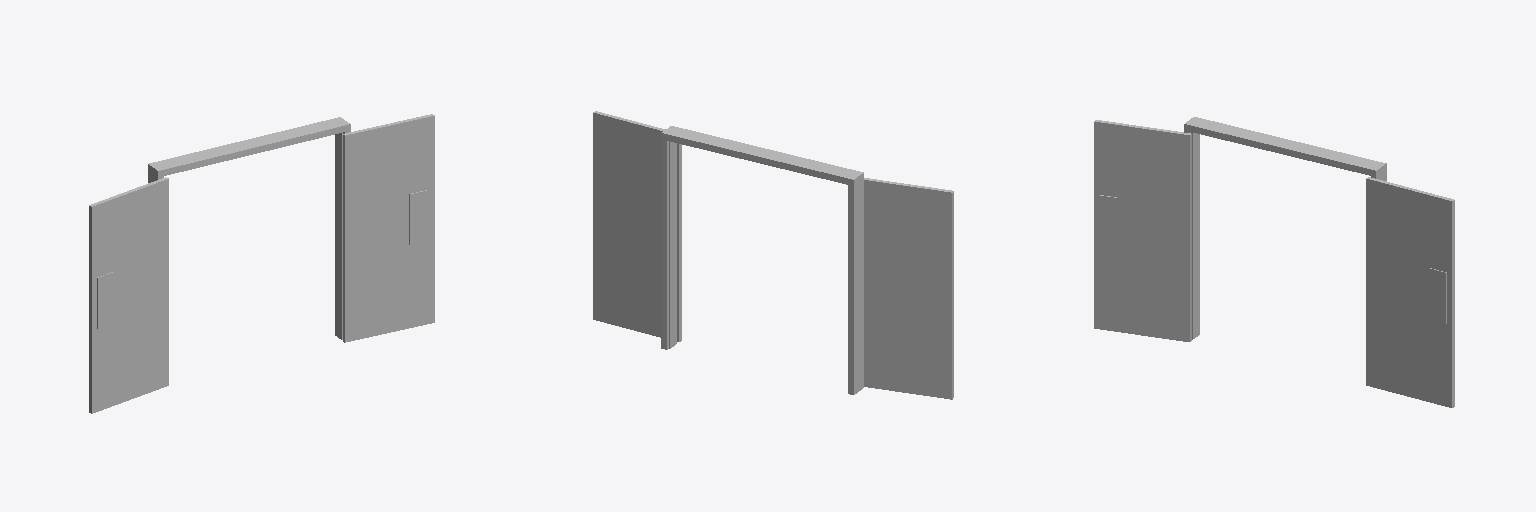
File: TablesDoors.obj
The picture shows the model from 3 angles: view 1: azimuth 30°, elevation 25°; view 2: azimuth 150°, elevation 25°; view 3: azimuth 330°, elevation 25°; orthographic projection.
Visible parts, largest first — view 1: Cube.000; view 2: Cube.000; view 3: Cube.000.
Boxes of the visible parts, <box> form: Cube.000: <box>89,114,434,413</box>; Cube.000: <box>593,111,953,399</box>; Cube.000: <box>1094,117,1454,407</box>.
Bounding box in the file's own units: 3.84 × 2.25 × 0.4159.